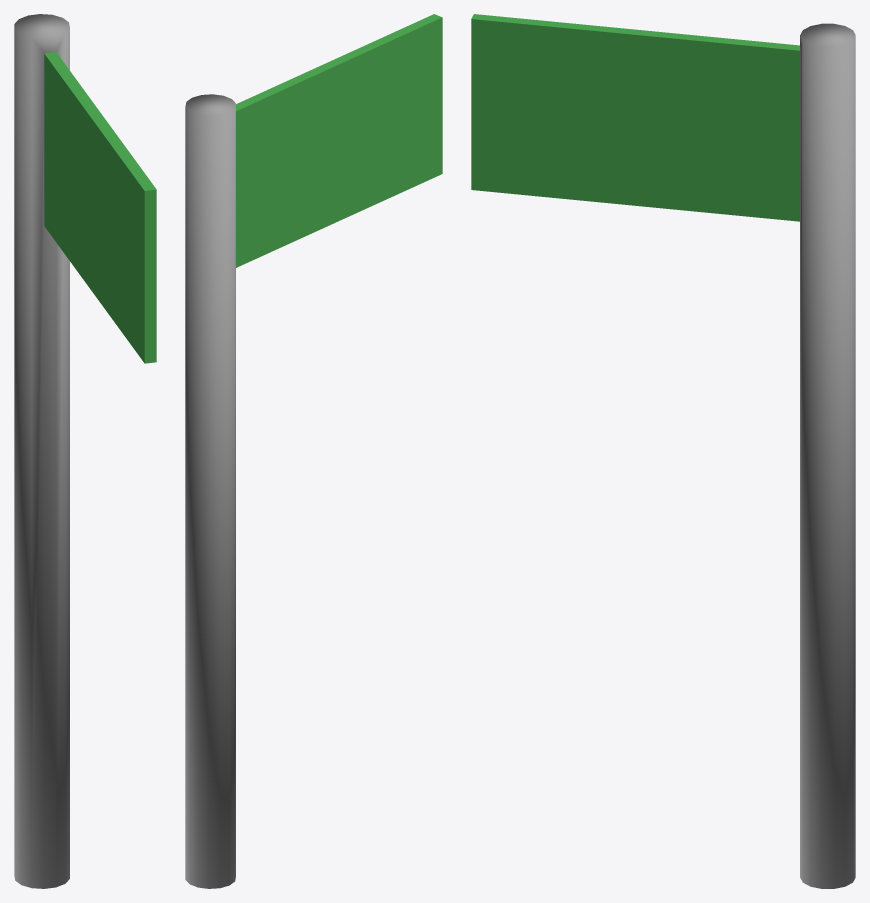
Rendered from BaseFlag-transformed.glb.
The picture shows the model from 3 angles, left to right: view 1: azimuth 30°, elevation 25°; view 2: azimuth 150°, elevation 25°; view 3: azimuth 270°, elevation 25°; orthographic projection. The views are drawn at different scales.
Parts seen in each view (by area): view 1: Cylinder; view 2: Cylinder; view 3: Cylinder.
Part boxes in pixels (left/top/right/bottom): Cylinder: left=14, top=14, right=156, bottom=888; Cylinder: left=185, top=14, right=442, bottom=888; Cylinder: left=471, top=14, right=855, bottom=888.
Bounding box in the file's own units: 0.0941 × 0.765 × 0.3166.
